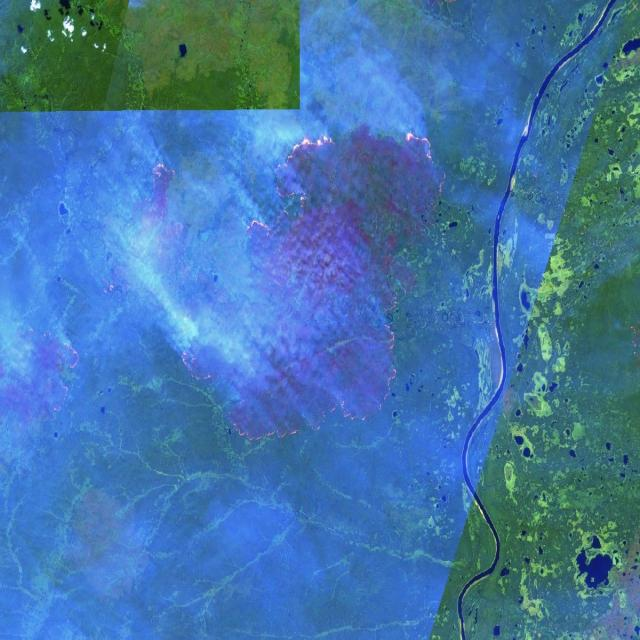fire: (183, 114, 456, 451)
